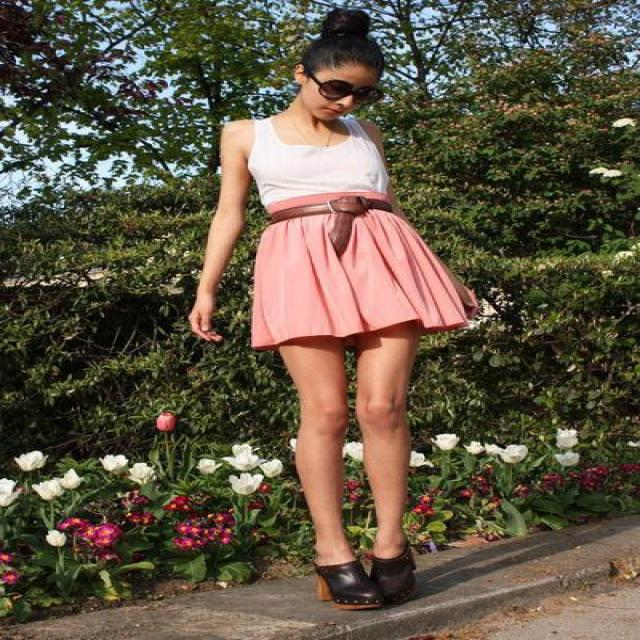shirt: (249, 116, 396, 217)
shoe: (306, 555, 418, 610)
skirt: (250, 192, 459, 345)
sunglass: (307, 70, 355, 102)
